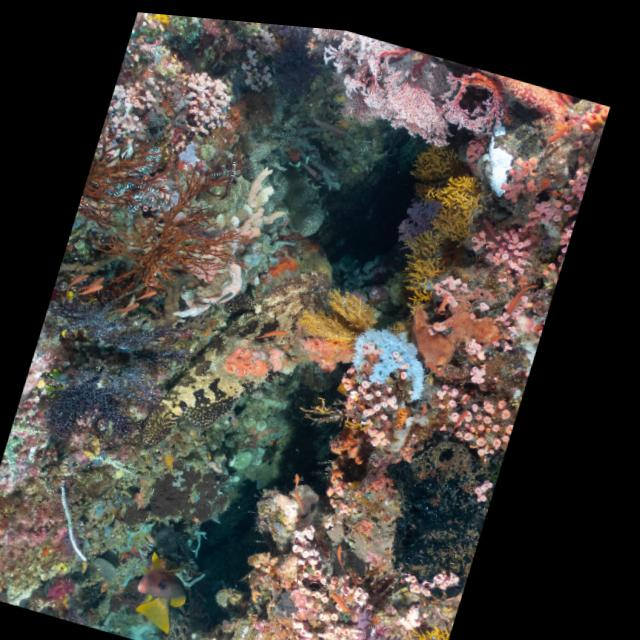Groupers: (132, 231, 338, 490)
